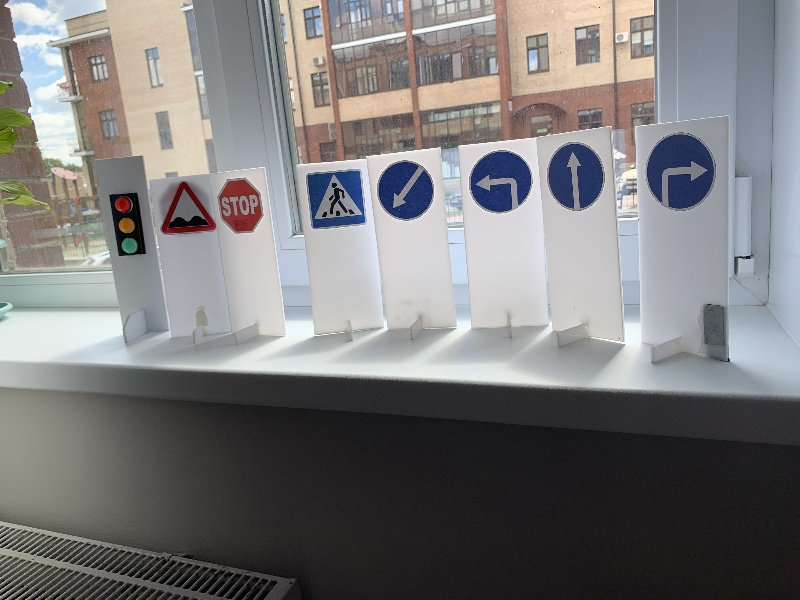Left: (467, 147, 533, 214)
Nerov: (163, 180, 214, 235)
Right: (643, 128, 717, 211)
Stop: (215, 175, 264, 234)
forw: (545, 141, 606, 211)
pesh: (306, 172, 366, 228)
prep: (376, 159, 435, 222)
